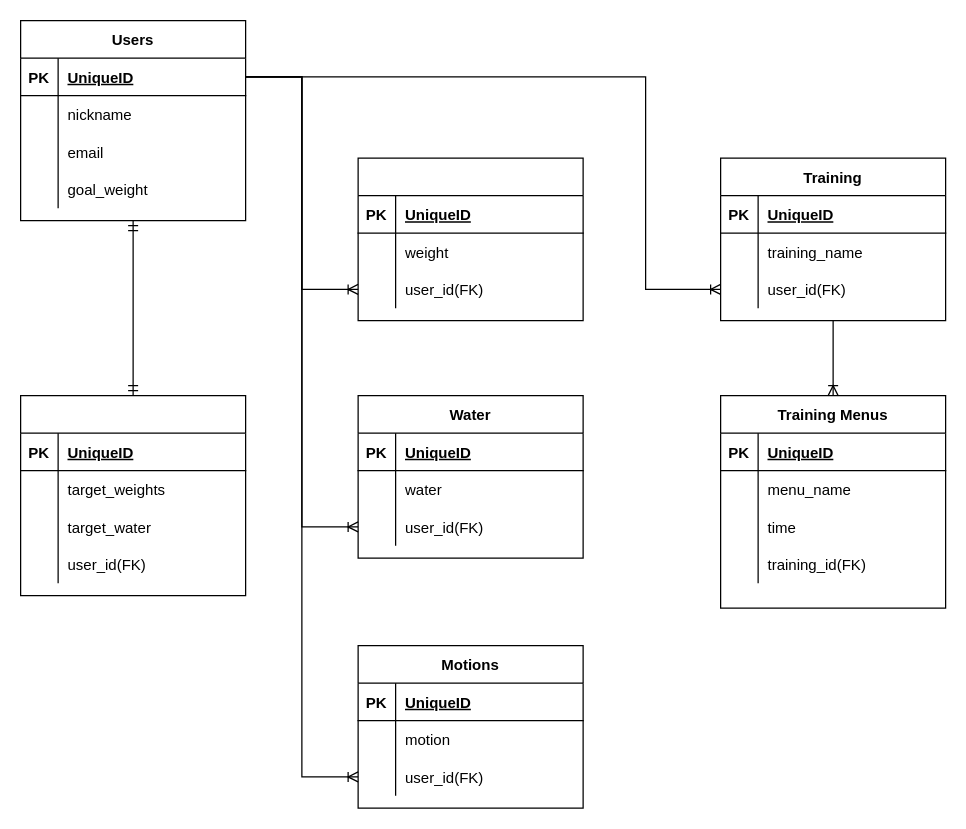
Image size: 966x829. Some labels were removed from this diagram. Each missing label, with the box of its shape:
Targets: (19, 394, 246, 596)
Weights: (357, 157, 583, 321)
